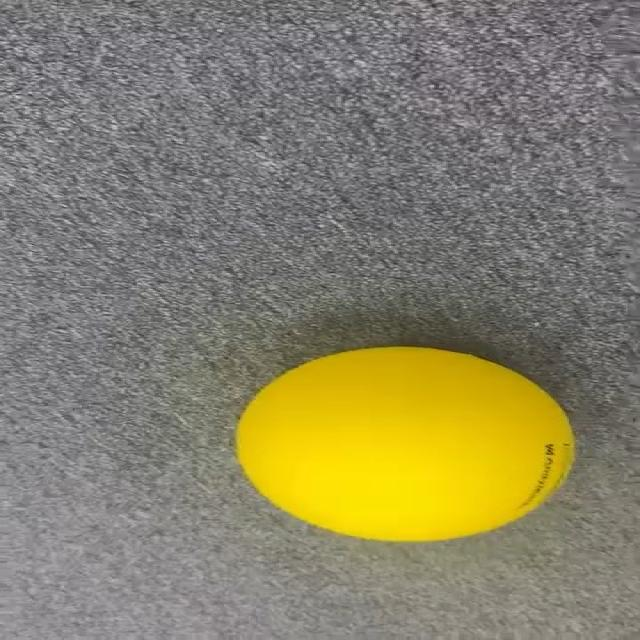Fuels: (244, 347, 572, 540)
